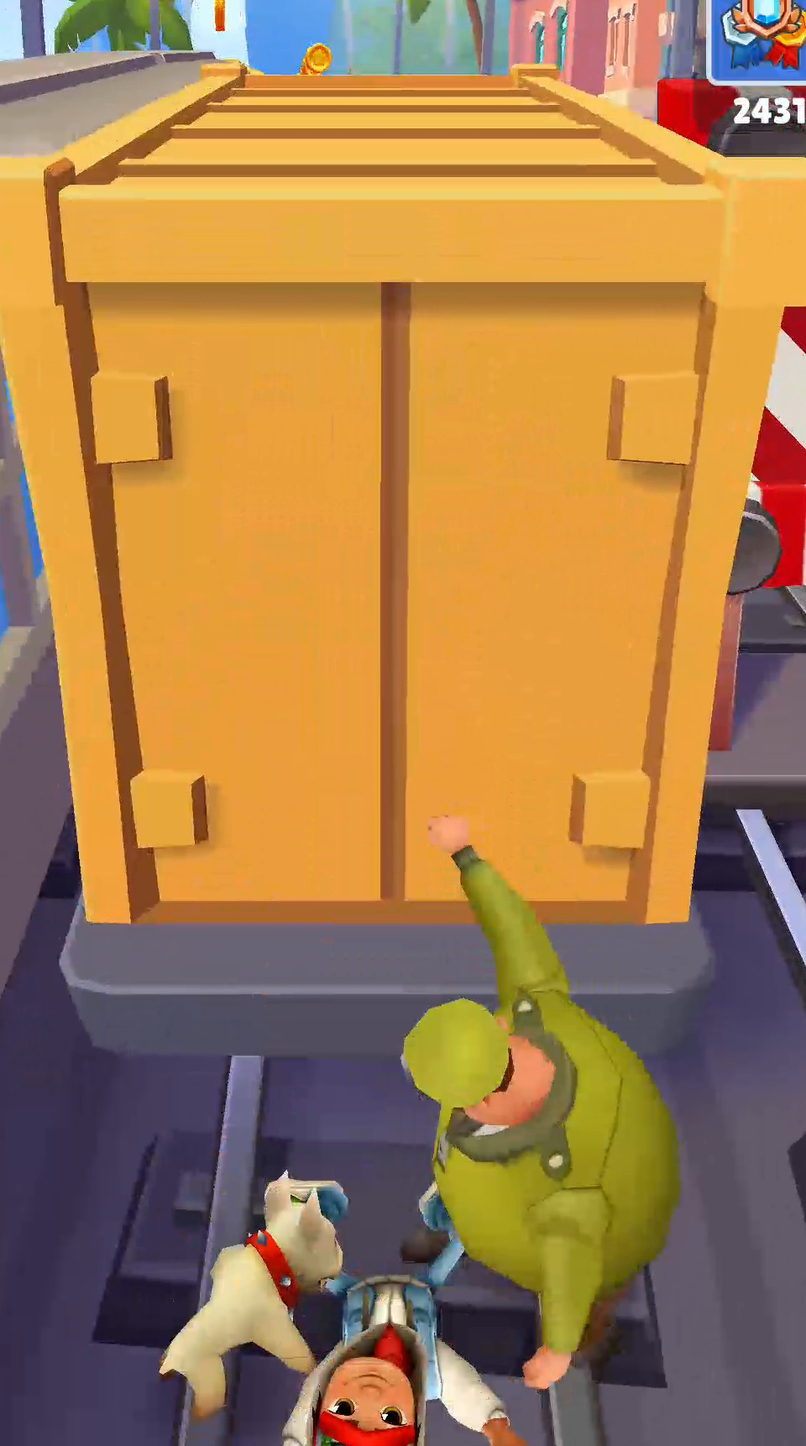jump-barrier: (739, 307, 805, 586), (658, 80, 805, 157), (709, 598, 741, 748)
police: (402, 820, 678, 1386)
train: (0, 64, 805, 1057), (0, 391, 71, 993)
